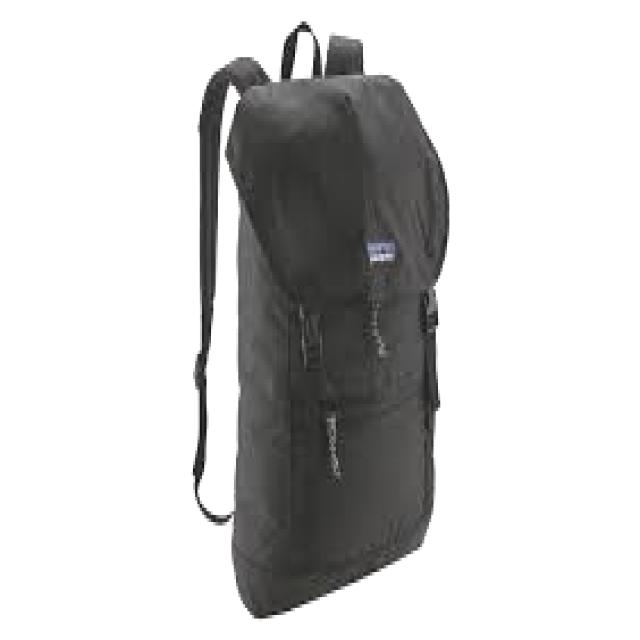backpack: (192, 19, 450, 619)
